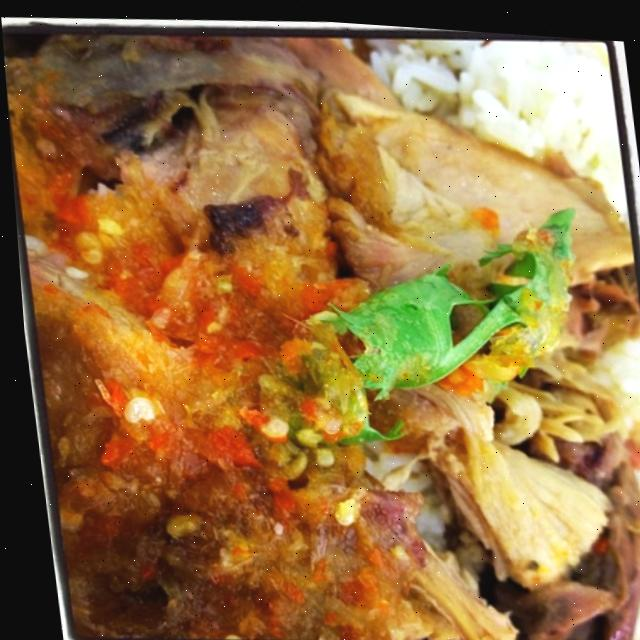猪肉菜式: (45, 34, 640, 640)
